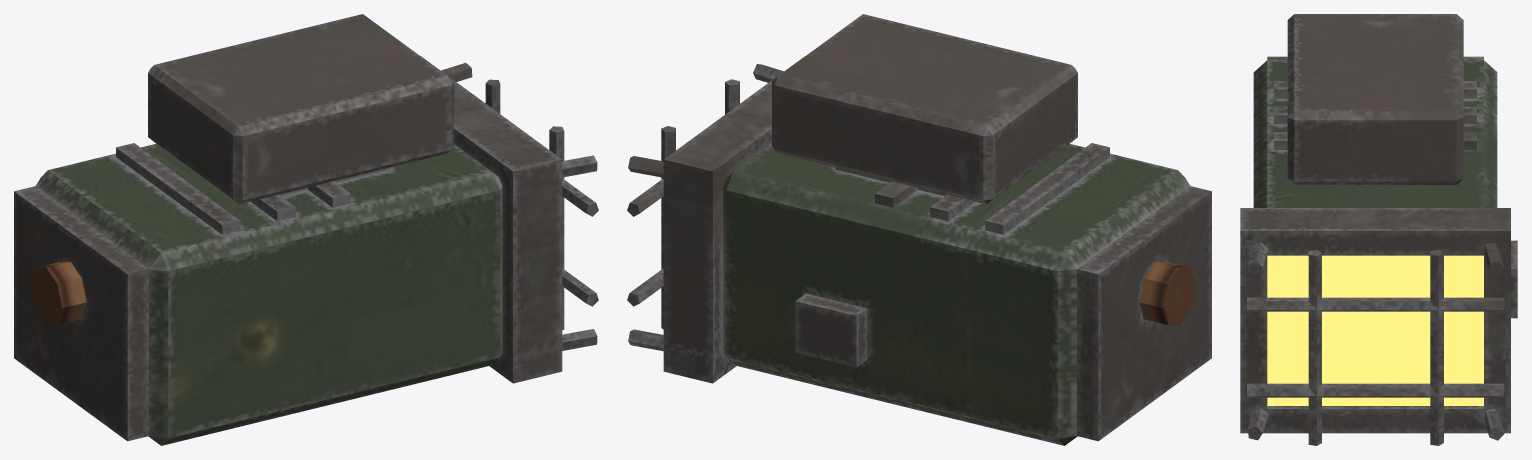
File: mine_lamp.glb
The picture shows the model from 3 angles, left to right: view 1: azimuth 30°, elevation 25°; view 2: azimuth 150°, elevation 25°; view 3: azimuth 270°, elevation 25°; orthographic projection. The views are drawn at different scales.
Visible parts, largest first — view 1: mine_lamp; view 2: mine_lamp; view 3: mine_lamp, Glass.
Boxes of the visible parts, x1=… form: mine_lamp: x1=14, y1=14, x2=598, y2=445; mine_lamp: x1=627, y1=14, x2=1211, y2=445; mine_lamp: x1=1240, y1=14, x2=1517, y2=445; Glass: x1=1267, y1=255, x2=1483, y2=405.
Bounding box in the file's own units: 0.0791 × 0.046 × 0.041.
2 materials, 1 textured.
